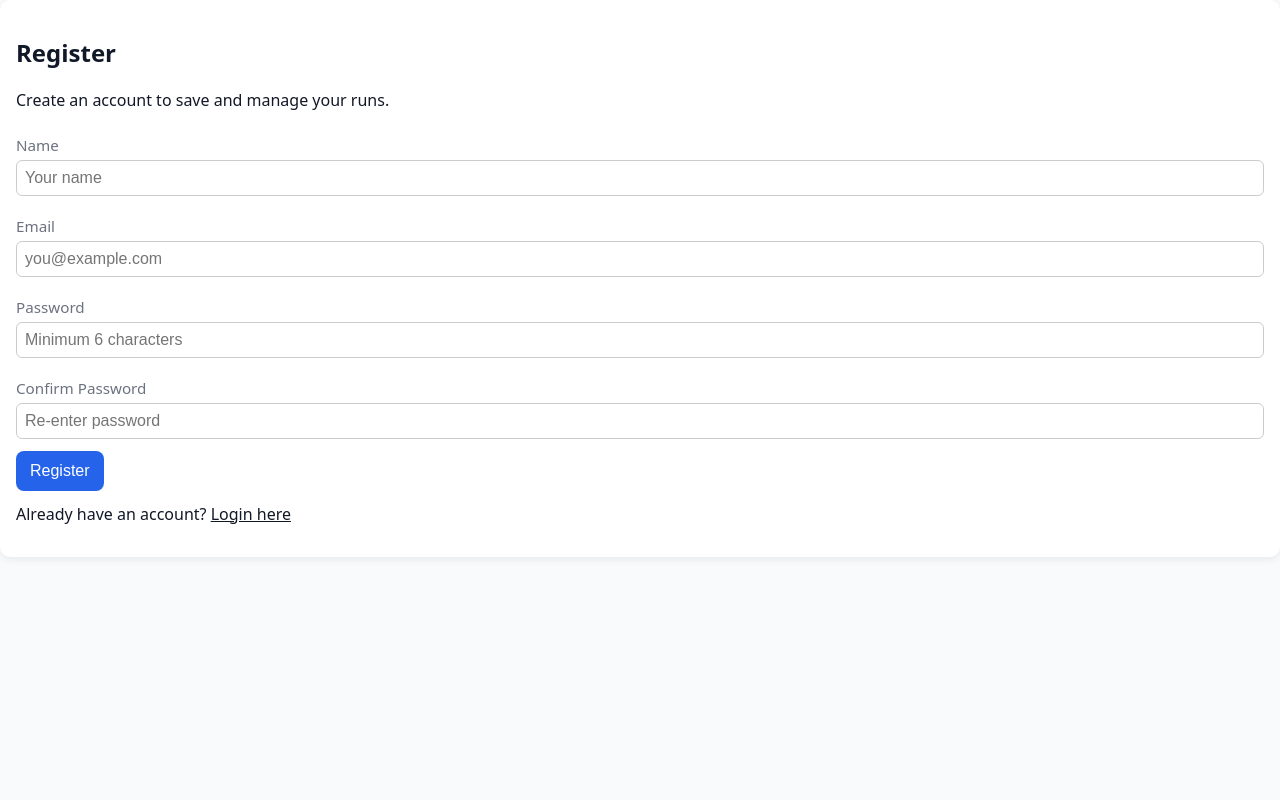
Scenario: RegisterPage › shows error for short password
Type "Danniel" into the field labelled "Name" at coordinates (640, 178), box [16,160,1264,196]
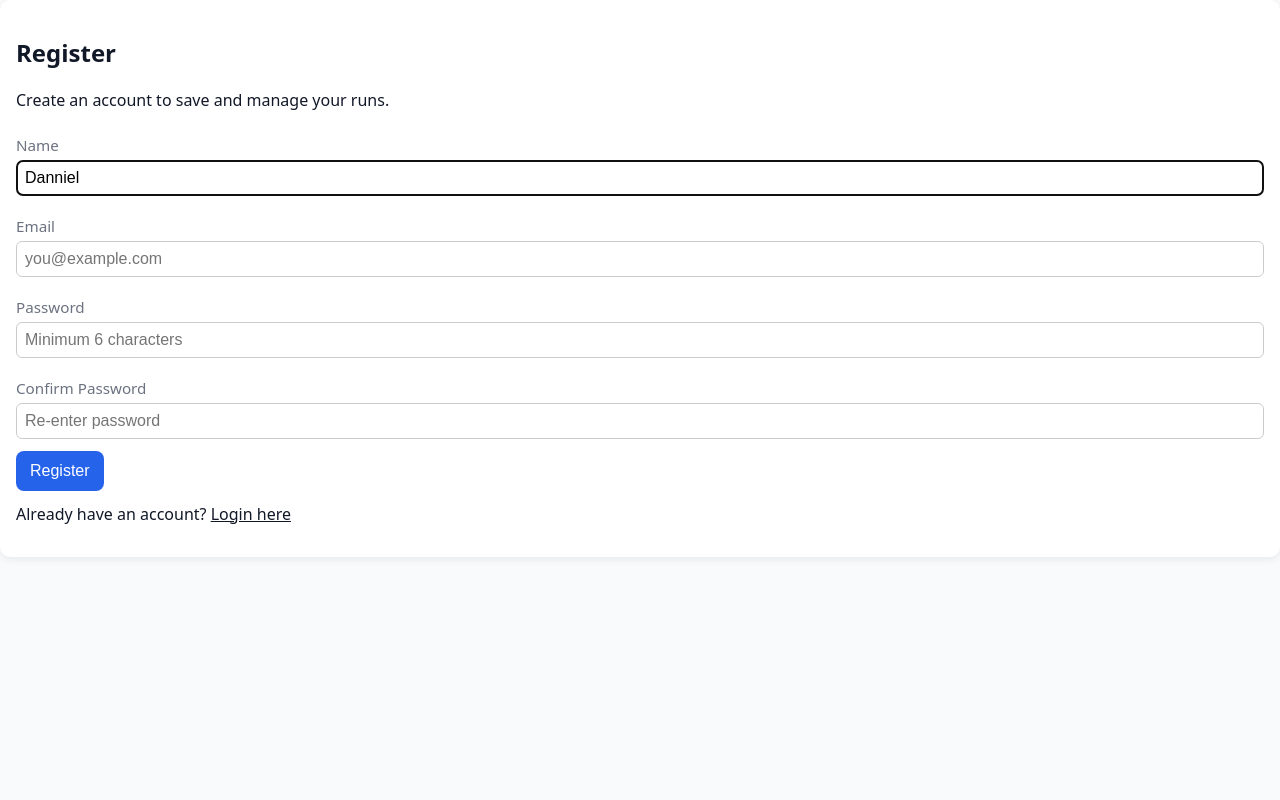
Type "test@example.com" into the field labelled "Email" at coordinates (640, 259), box [16,241,1264,277]
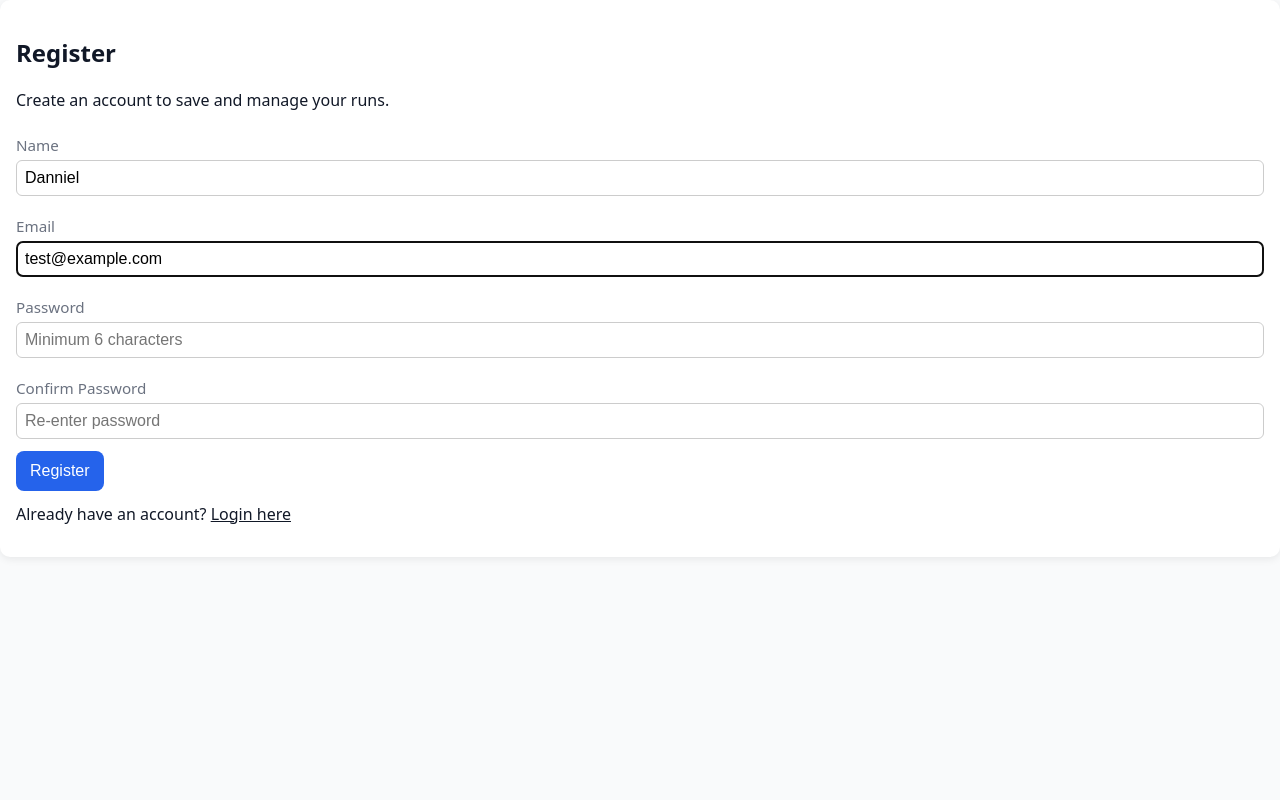
Type "123" into the password field labelled "Password" at coordinates (640, 340), box [16,322,1264,358]
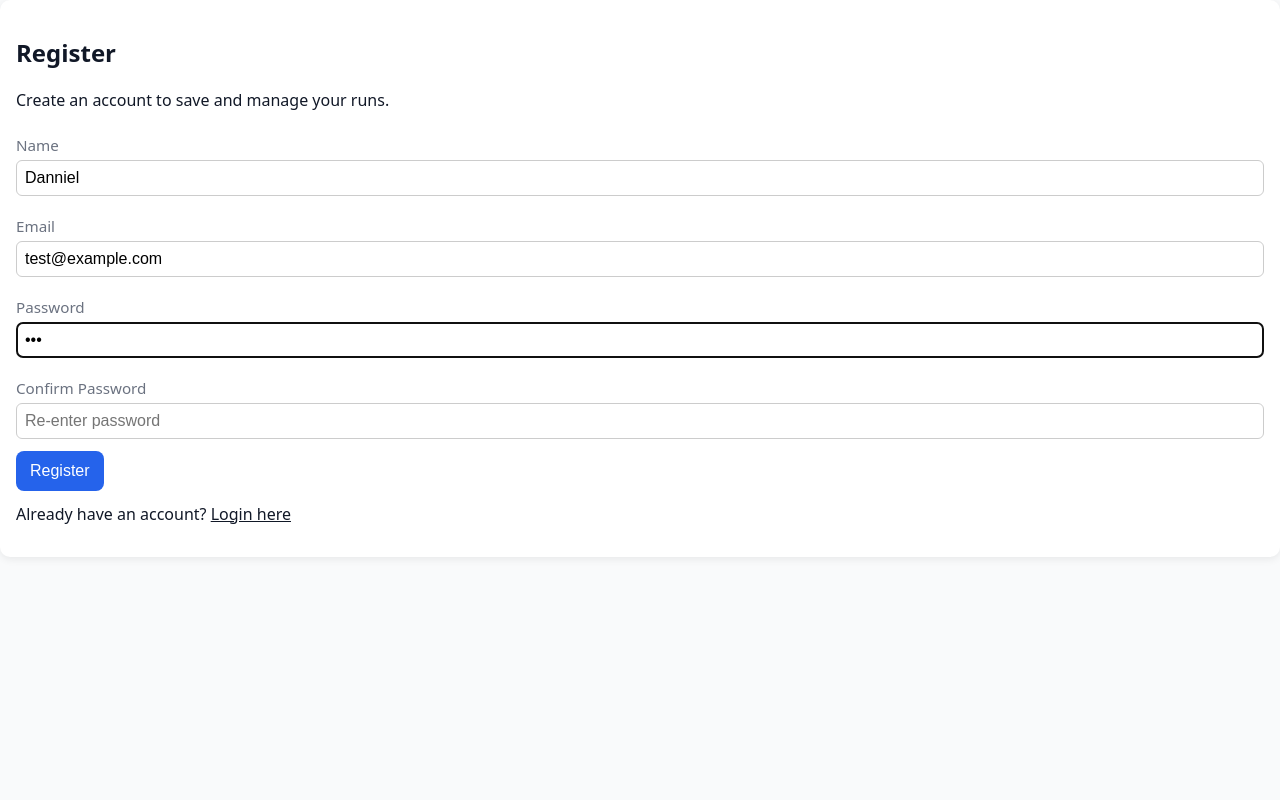
Type "123" into the password field labelled "Confirm Password" at coordinates (640, 421), box [16,403,1264,439]
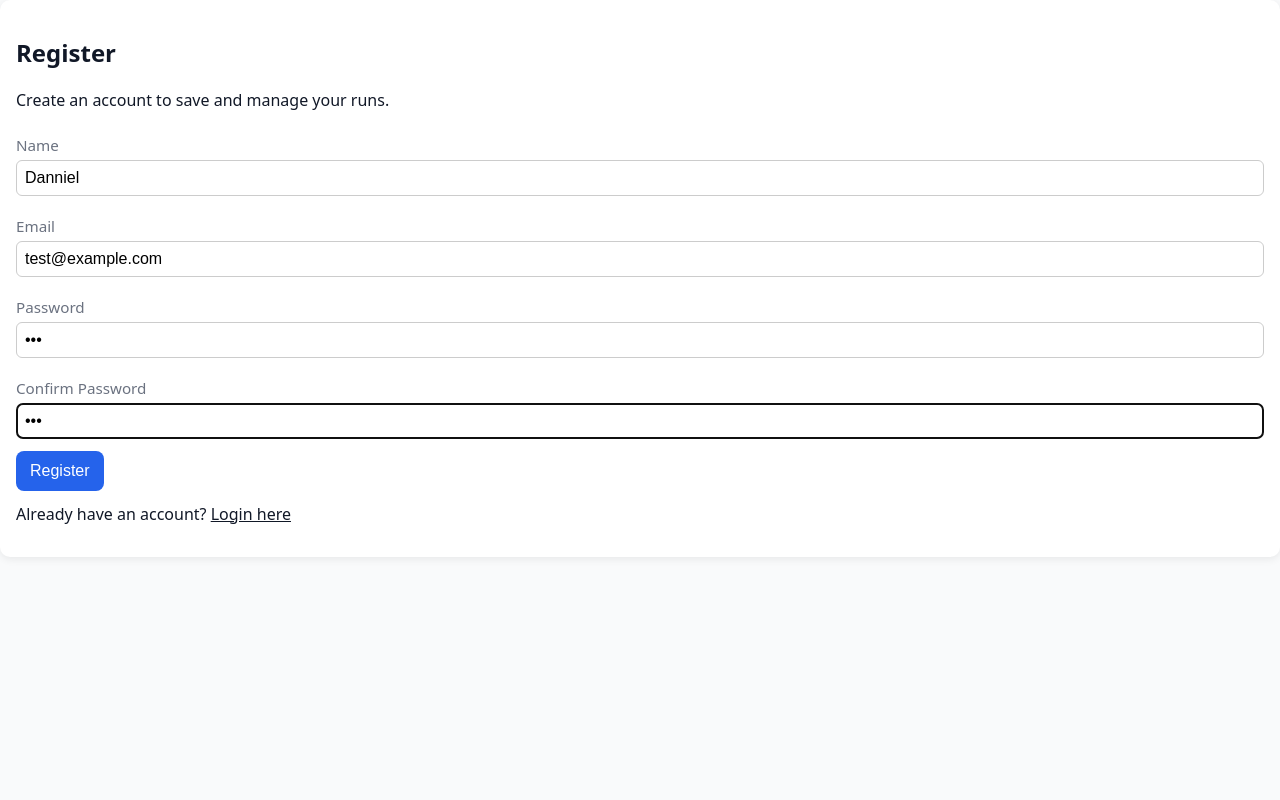
Click the button "Register" at coordinates (60, 471), box [16,451,104,491]
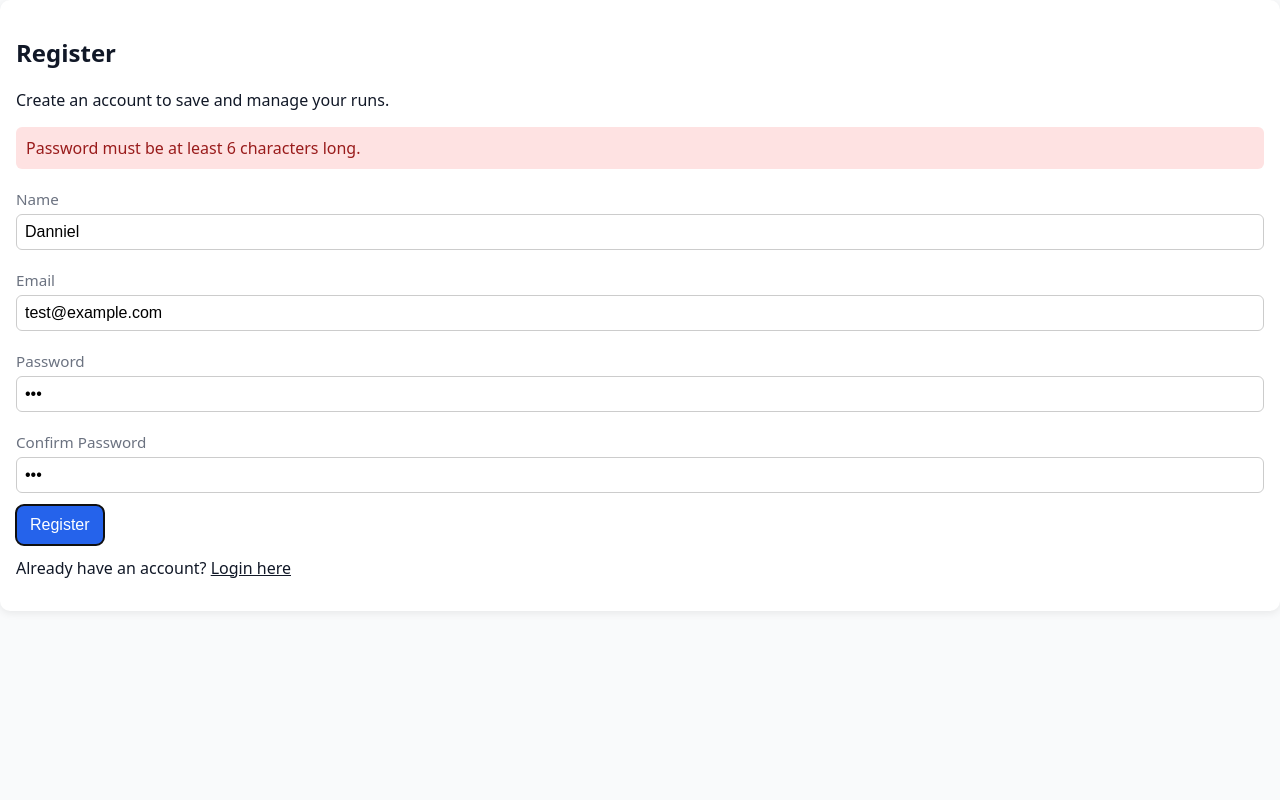
Now the text "Password must be at least 6 characters long." is shown, box [16,127,1264,169]
